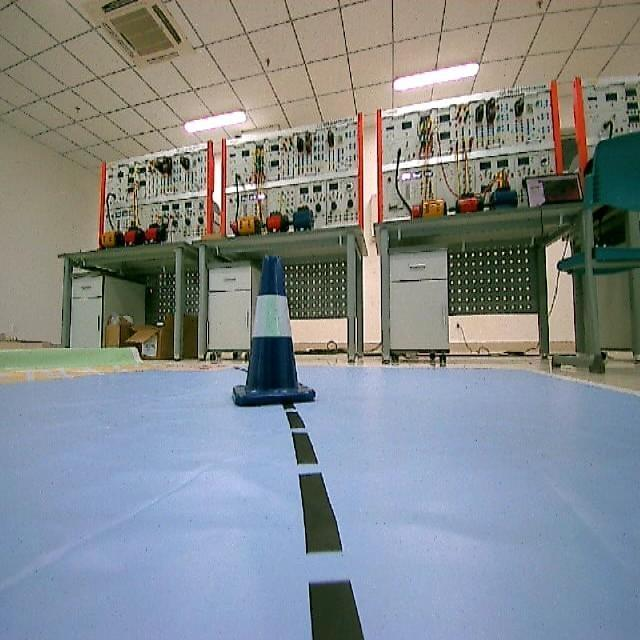obstacle: (225, 247, 318, 411)
